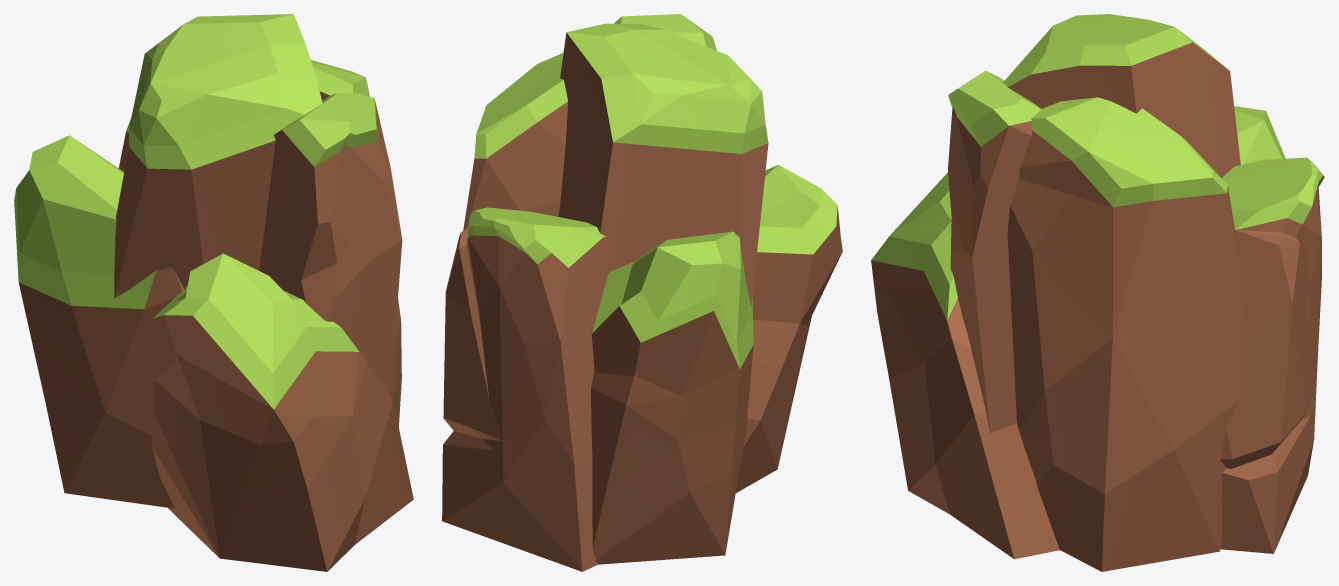
Rendered from hill.fbx.
3 renders of one model, left to right at view 1: azimuth 30°, elevation 25°; view 2: azimuth 150°, elevation 25°; view 3: azimuth 270°, elevation 25°, orthographic. The views are drawn at different scales.
Visible parts, largest first — view 1: PP_Rock_Pile_Forest_Moss_05_13; view 2: PP_Rock_Pile_Forest_Moss_05_13; view 3: PP_Rock_Pile_Forest_Moss_05_13.
Part boxes in pixels (x1=…): PP_Rock_Pile_Forest_Moss_05_13: x1=14, y1=14, x2=413, y2=571; PP_Rock_Pile_Forest_Moss_05_13: x1=442, y1=14, x2=842, y2=571; PP_Rock_Pile_Forest_Moss_05_13: x1=871, y1=14, x2=1324, y2=571.
Bounding box in the file's own units: 1133 × 1282 × 933.
